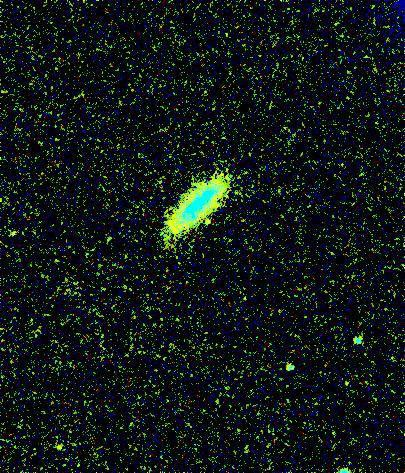star: (197, 209, 227, 239)
